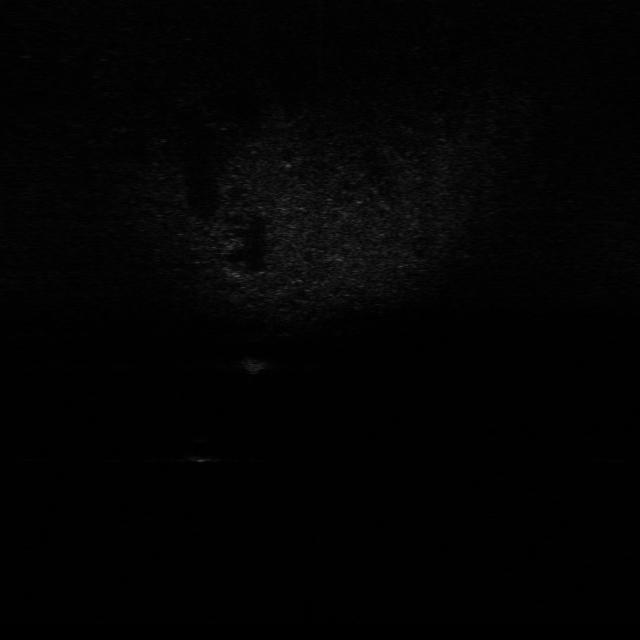ball: (183, 435, 224, 466)
cube: (237, 353, 276, 380)
